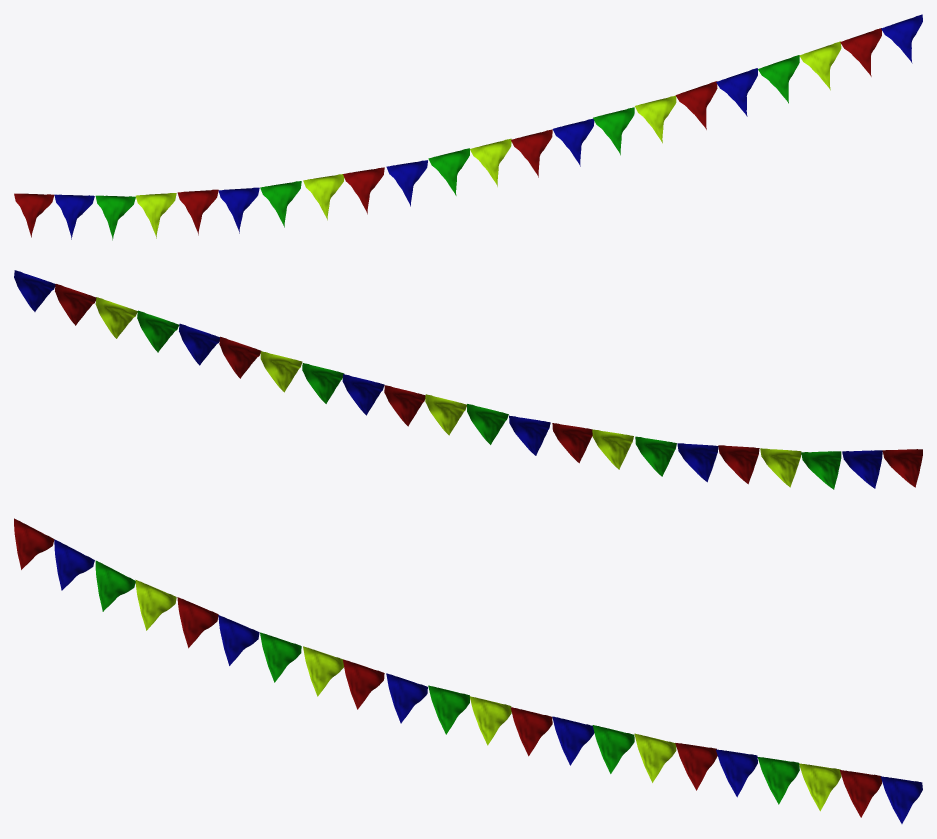
File: Flags.FBX
The picture shows the model from 3 angles, top to bottom: view 1: azimuth 30°, elevation 25°; view 2: azimuth 150°, elevation 25°; view 3: azimuth 330°, elevation 25°; orthographic projection.
Visible parts, largest first — view 1: Flag016, Flag018, Flag020, Flag019, Flag021, Flag017, Flag013, Flag012, Flag011, Flag015, Flag014, Flag010 (+10 smaller); view 2: Flag007, Flag006, Flag008, Flag003, Flag004, Flag005, Flag001, Flag002, Flag009, Flag, Flag015, Flag011 (+10 smaller); view 3: Flag015, Flag017, Flag018, Flag019, Flag009, Flag011, Flag021, Flag013, Flag012, Flag014, Flag002, Flag010 (+10 smaller).
Part boxes in pixels (<box>): Flag016: <box>675,81,717,129</box>; Flag018: <box>758,55,799,103</box>; Flag020: <box>840,28,881,76</box>; Flag019: <box>799,41,841,90</box>; Flag021: <box>881,14,922,63</box>; Flag017: <box>716,68,757,116</box>; Flag013: <box>552,118,594,166</box>; Flag012: <box>511,129,552,177</box>; Flag011: <box>470,138,511,186</box>; Flag015: <box>635,95,676,143</box>; Flag014: <box>593,107,634,155</box>; Flag010: <box>428,148,469,195</box>; Flag007: <box>842,450,882,488</box>; Flag006: <box>801,451,841,489</box>; Flag008: <box>882,449,922,487</box>; Flag003: <box>677,443,718,482</box>; Flag004: <box>718,445,759,484</box>; Flag005: <box>760,448,801,487</box>; Flag001: <box>592,429,633,469</box>; Flag002: <box>635,436,676,476</box>; Flag009: <box>509,415,550,455</box>; Flag: <box>552,423,592,463</box>; Flag015: <box>260,351,302,392</box>; Flag011: <box>425,394,466,435</box>; Flag015: <box>634,733,676,782</box>; Flag017: <box>716,749,757,797</box>; Flag018: <box>757,757,799,804</box>; Flag019: <box>799,763,841,811</box>; Flag009: <box>386,673,427,723</box>; Flag011: <box>469,696,511,745</box>; Flag021: <box>880,776,922,823</box>; Flag013: <box>552,716,594,765</box>; Flag012: <box>510,707,552,756</box>; Flag014: <box>592,725,634,773</box>; Flag002: <box>260,632,301,682</box>; Flag010: <box>428,685,469,734</box>.
Size of the model in its own units: 287 by 32.53 by 3.38.
